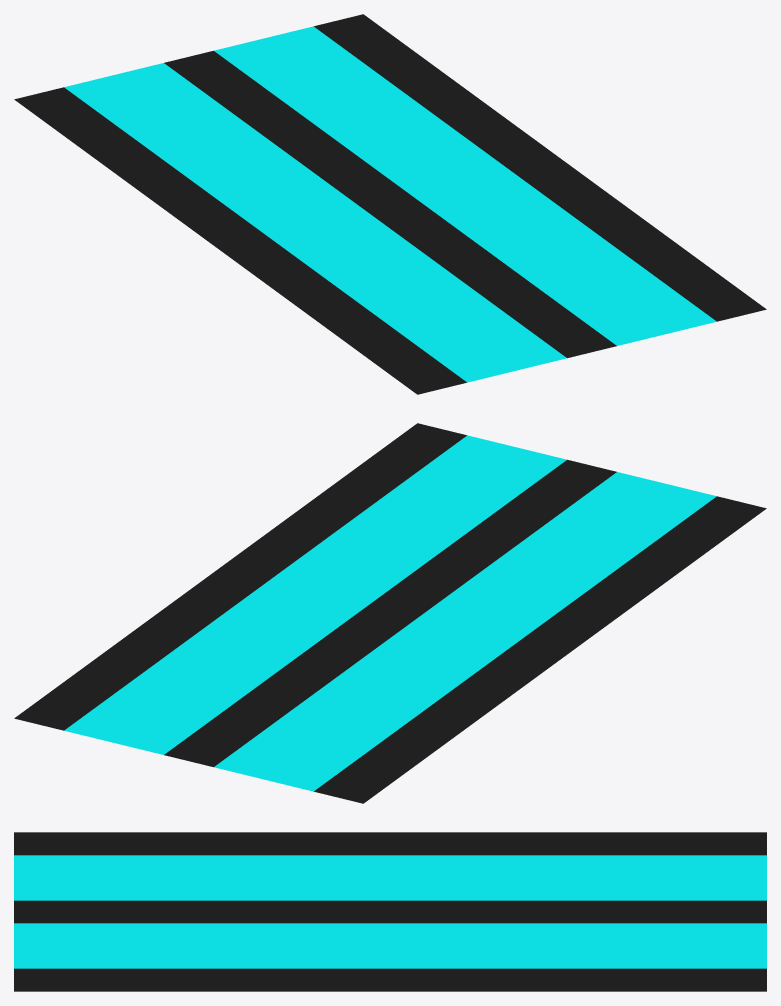
File: RaceTrack_Straight_10m 1.fbx
The picture shows the model from 3 angles, top to bottom: view 1: azimuth 30°, elevation 25°; view 2: azimuth 150°, elevation 25°; view 3: azimuth 270°, elevation 25°; orthographic projection. The views are drawn at different scales.
Parts seen in each view (by area): view 1: Straight_10m; view 2: Straight_10m; view 3: Straight_10m.
Boxes of the visible parts, x1=… form: Straight_10m: x1=14, y1=14, x2=766, y2=394; Straight_10m: x1=14, y1=423, x2=766, y2=803; Straight_10m: x1=14, y1=832, x2=766, y2=991.
Size of the model in its own units: 5 by 8.74e-07 by 10.
